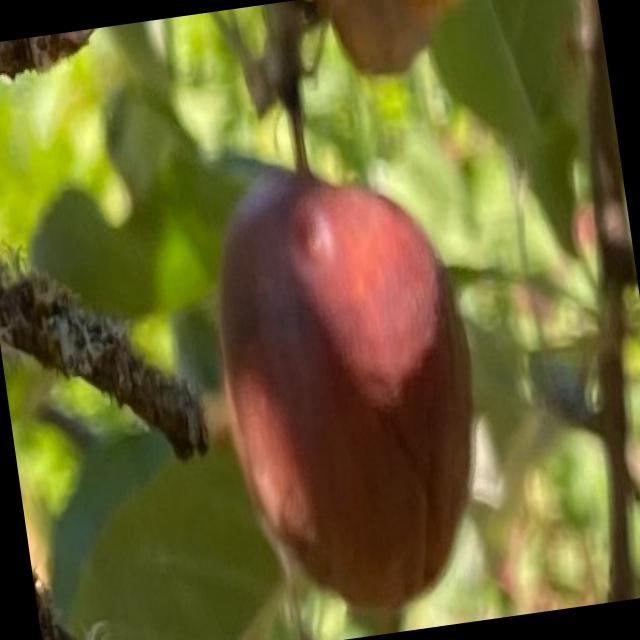Apples: (200, 154, 500, 622)
